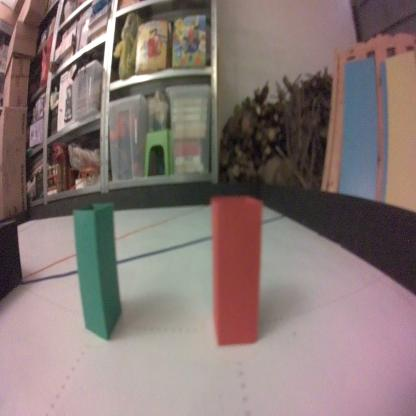green: (71, 197, 124, 345)
red: (209, 190, 264, 351)
